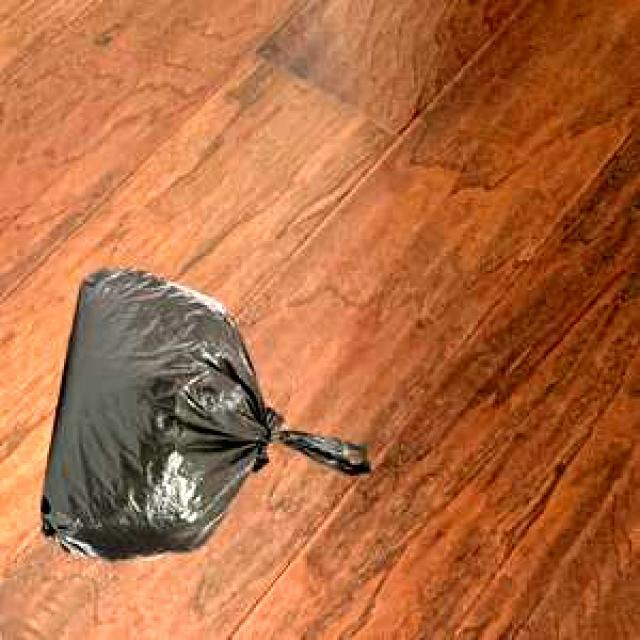Garbage_Bag: (37, 265, 368, 558)
